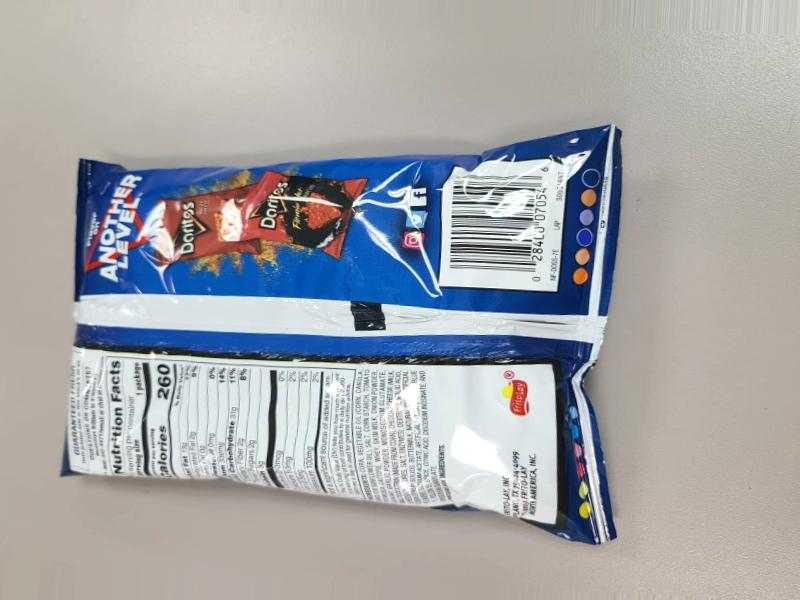doritos: (151, 139, 607, 600)
